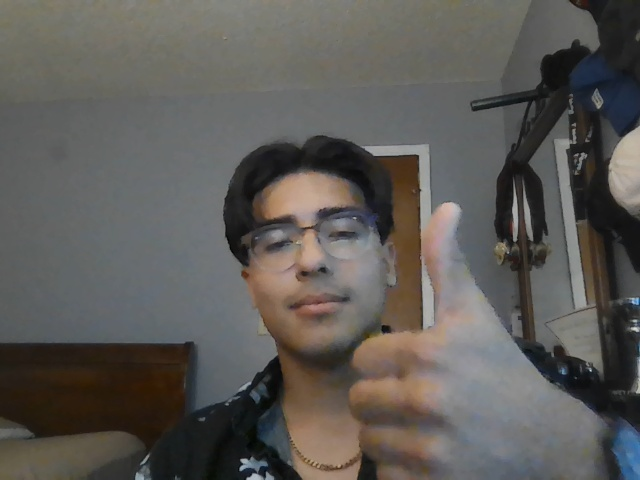ThumbsUp: (346, 201, 640, 480)
person: (219, 136, 397, 359)
